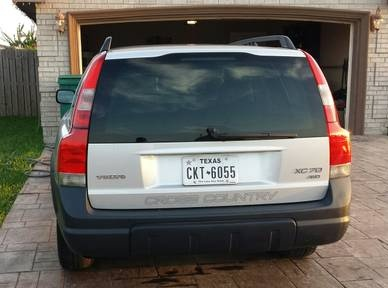volvo: (24, 21, 388, 279)
